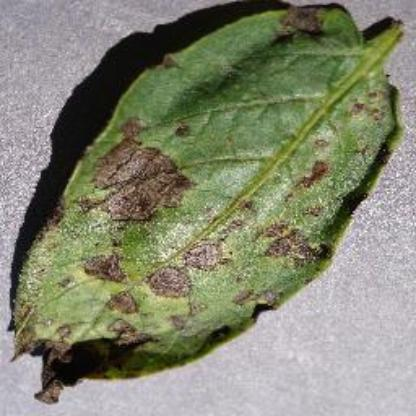Early-Blight: (8, 2, 416, 404)
